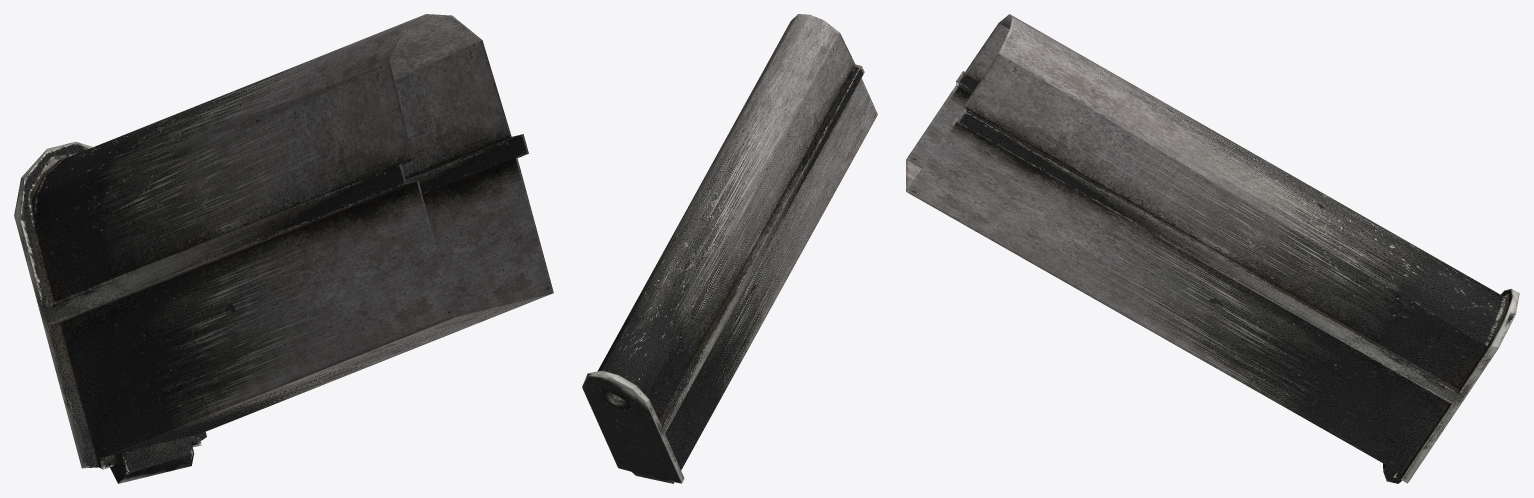
The model's file is MagLugerExtLg.fbx.
3 views of the same model, side by side, from view 1: azimuth 30°, elevation 25°; view 2: azimuth 150°, elevation 25°; view 3: azimuth 270°, elevation 25° (orthographic). The views are drawn at different scales.
Parts seen in each view (by area): view 1: MagLugerExt; view 2: MagLugerExt; view 3: MagLugerExt.
Boxes of the visible parts, x1,y1,x2,y2 form: MagLugerExt: [14, 14, 553, 483]; MagLugerExt: [582, 14, 877, 483]; MagLugerExt: [906, 14, 1519, 483].
Size of the model in its own units: 0.0115 by 0.056 by 0.0688.
